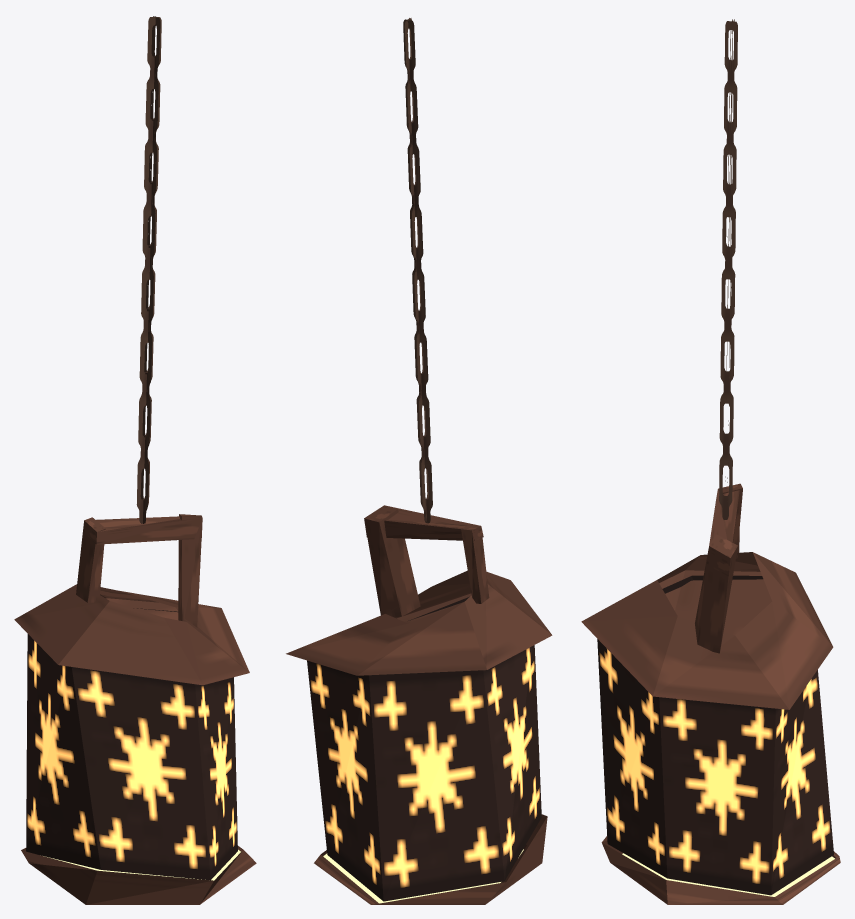
Rendered from SM_HexLantern.fbx.
3 renders of one model, left to right at view 1: azimuth 30°, elevation 25°; view 2: azimuth 150°, elevation 25°; view 3: azimuth 270°, elevation 25°, orthographic.
Visible parts, largest first — view 1: HexLantern_Visual, HexLantern_Chain; view 2: HexLantern_Visual, HexLantern_Chain; view 3: HexLantern_Visual, HexLantern_Chain.
Boxes of the visible parts, <box> form: HexLantern_Visual: <box>14,514,256,904</box>; HexLantern_Chain: <box>136,16,161,523</box>; HexLantern_Visual: <box>286,505,552,904</box>; HexLantern_Chain: <box>403,18,432,523</box>; HexLantern_Visual: <box>581,483,840,904</box>; HexLantern_Chain: <box>719,19,737,519</box>.
Bounding box in the file's own units: 0.2286 × 0.8549 × 0.2364.
